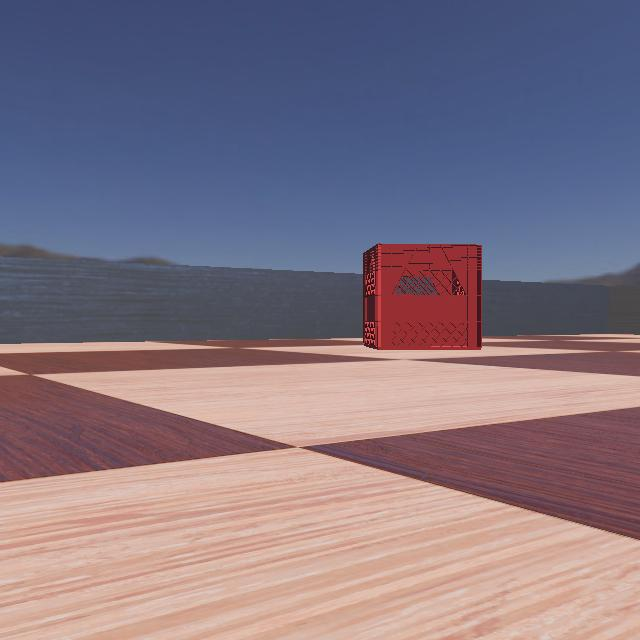plastic-crate: (361, 243, 483, 349)
